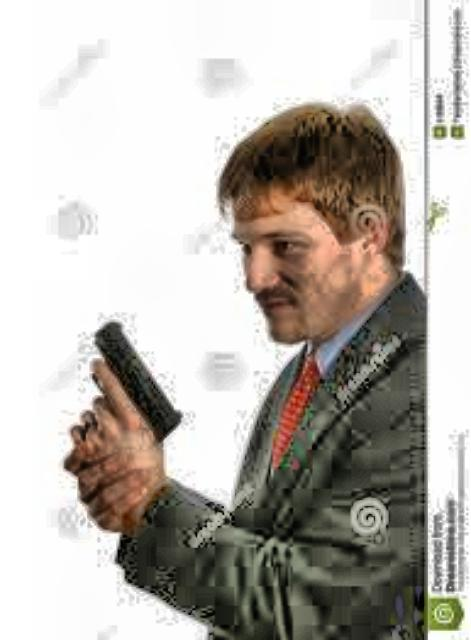pistol: (72, 314, 180, 454)
